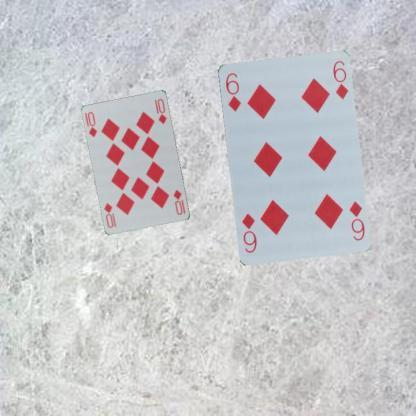10d: (171, 187, 187, 216), (85, 109, 99, 139)
6d: (346, 198, 366, 242), (222, 70, 242, 113)
